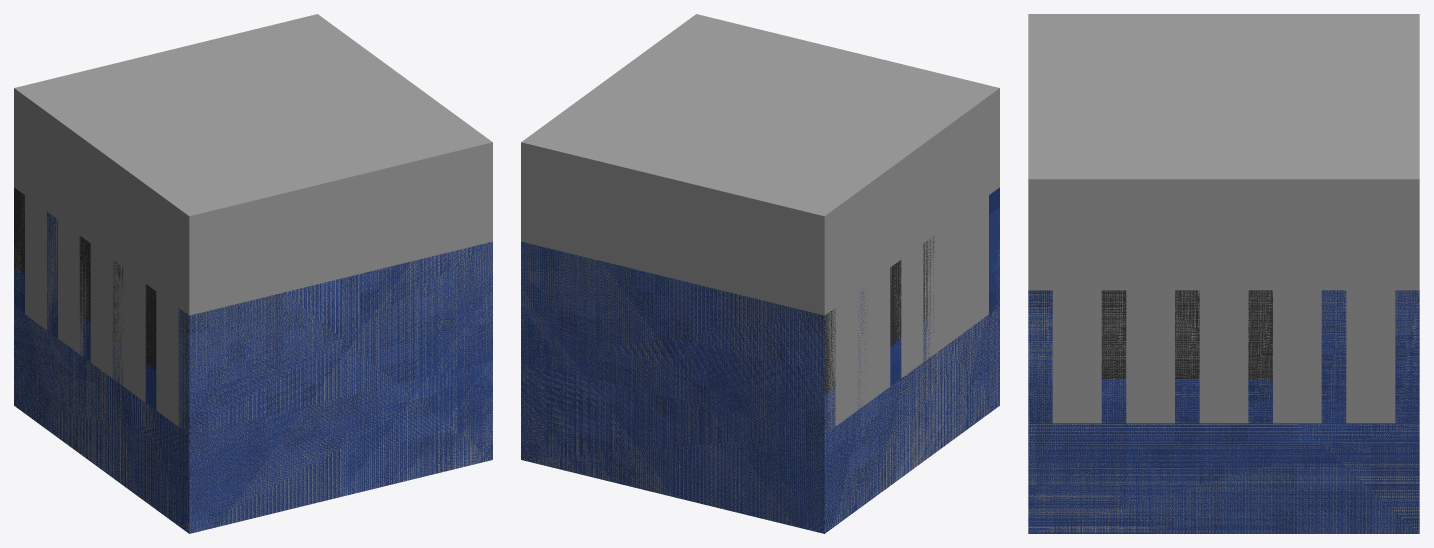
The model's file is passivethermaldissipatora.obj.
The picture shows the model from 3 angles, left to right: view 1: azimuth 30°, elevation 25°; view 2: azimuth 150°, elevation 25°; view 3: azimuth 270°, elevation 25°; orthographic projection. The views are drawn at different scales.
Parts seen in each view (by area): view 1: Minecraft_Block_Cube, main; view 2: Minecraft_Block_Cube, main; view 3: Minecraft_Block_Cube, main.
Part boxes in pixels (box(x1,y1,x2,y2)): Minecraft_Block_Cube: box(14, 14, 492, 533); main: box(14, 187, 492, 533); Minecraft_Block_Cube: box(521, 14, 999, 532); main: box(521, 187, 999, 533); Minecraft_Block_Cube: box(1028, 14, 1419, 533); main: box(1028, 290, 1419, 533).
Size of the model in its own units: 1 by 1 by 1.
